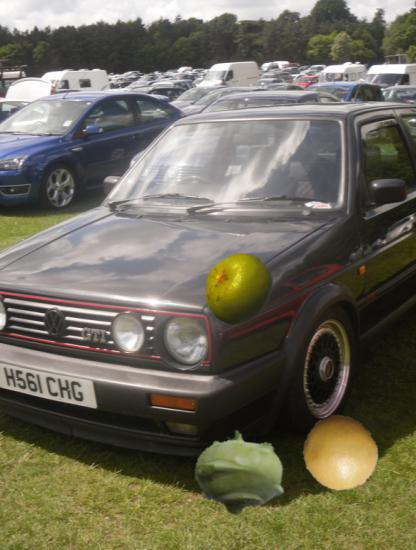Grapefruit: (302, 415, 379, 492)
Kohlrabi: (193, 426, 288, 521)
Pomelo: (202, 252, 276, 326)
